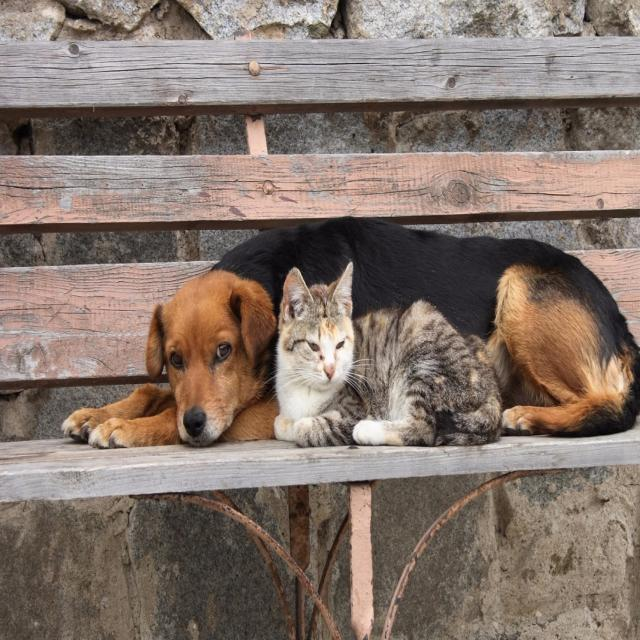Dogs: (52, 206, 639, 451)
